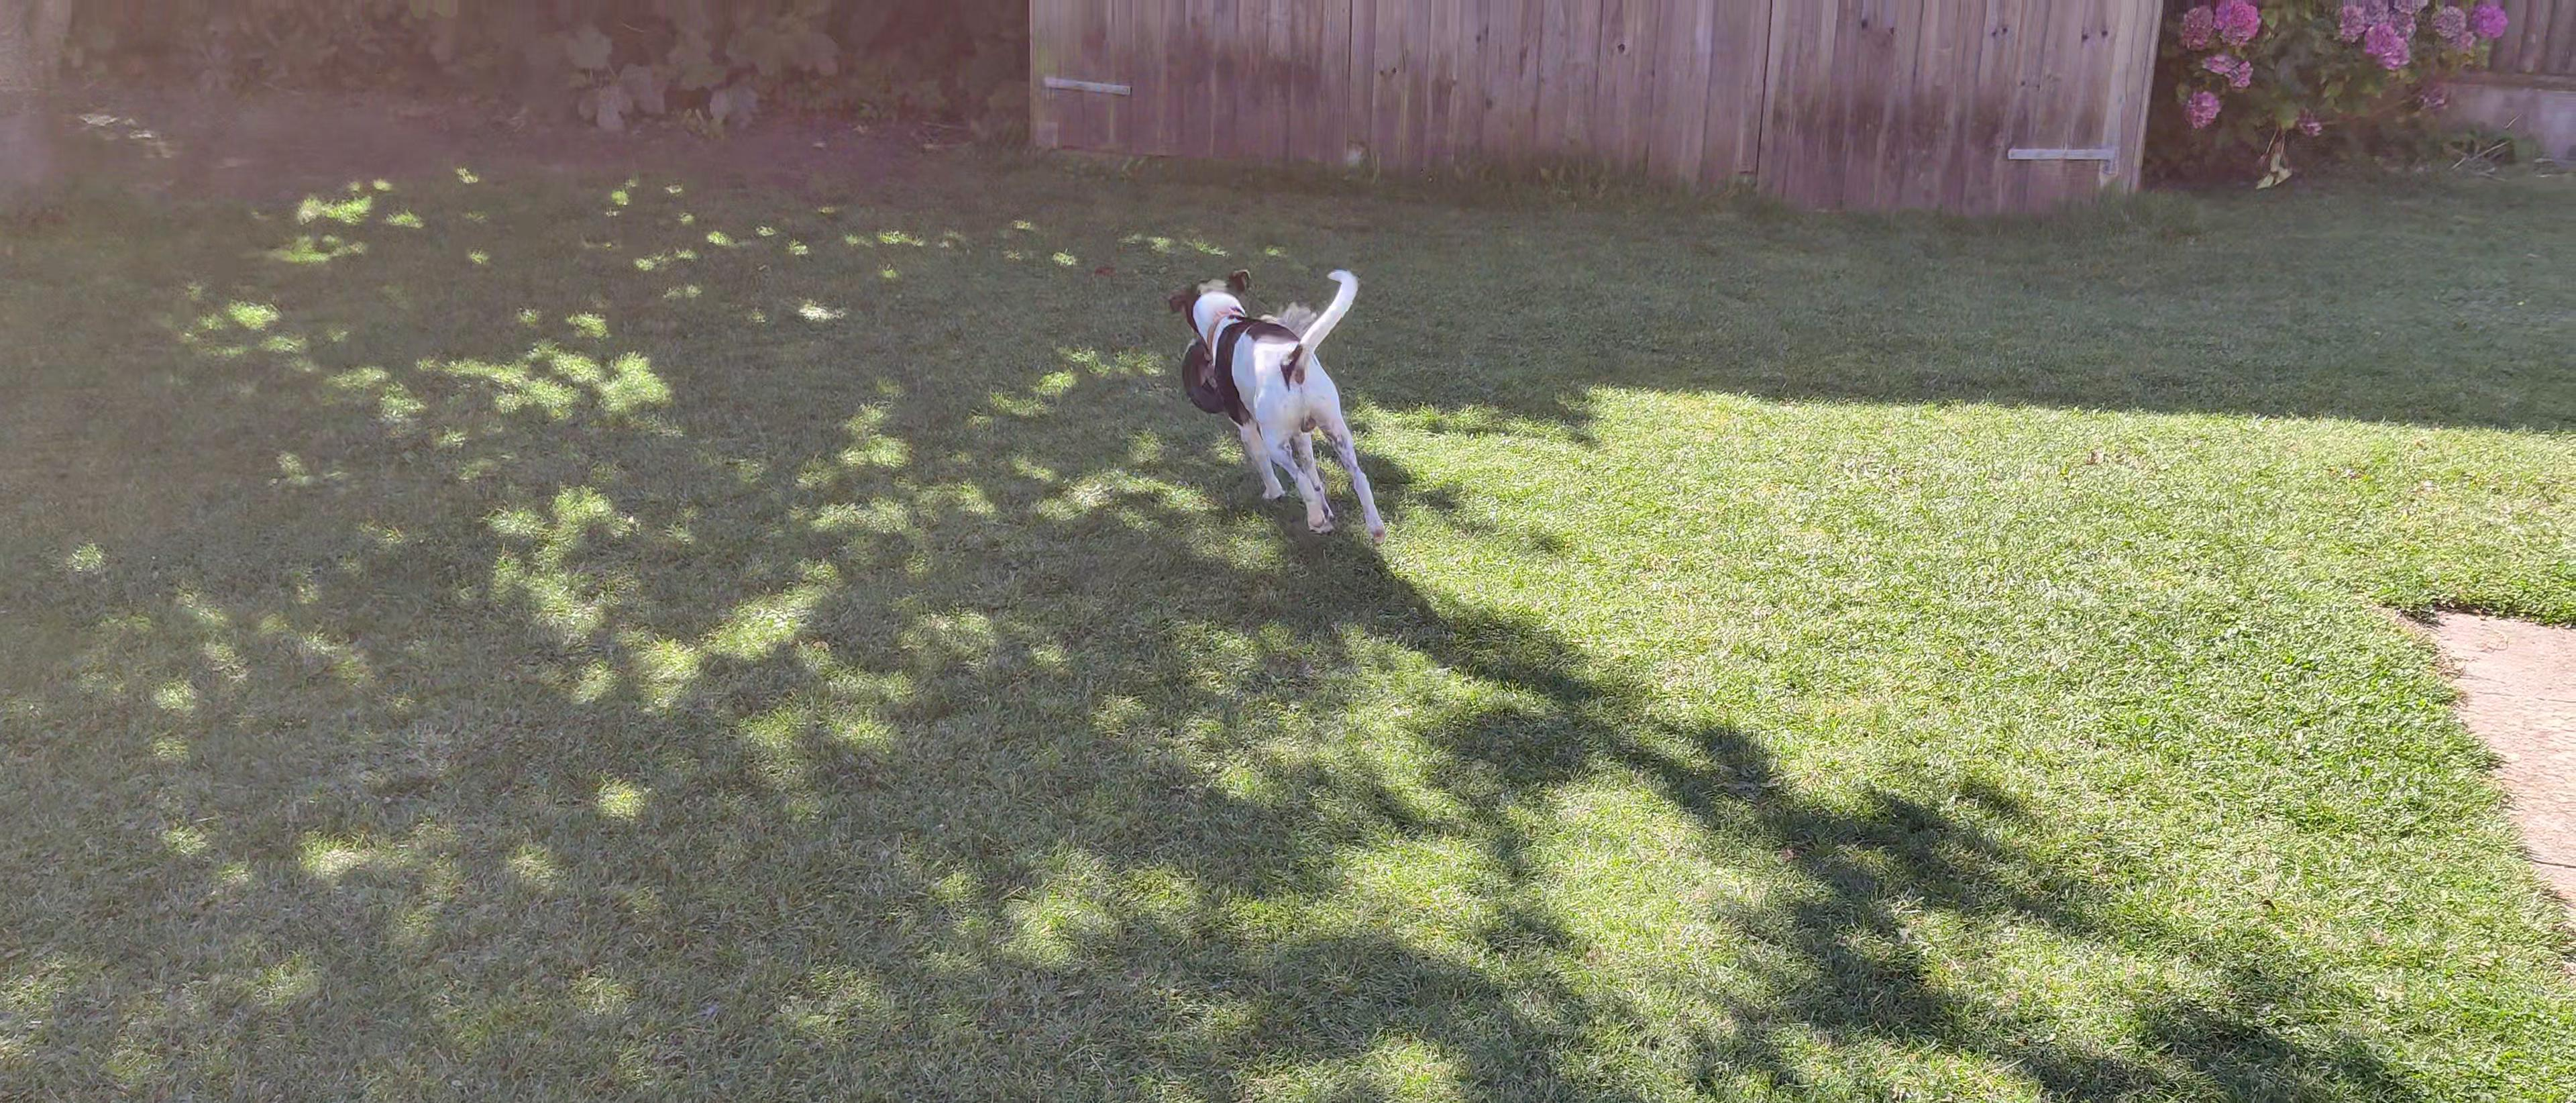Dog: (1160, 258, 1393, 559)
